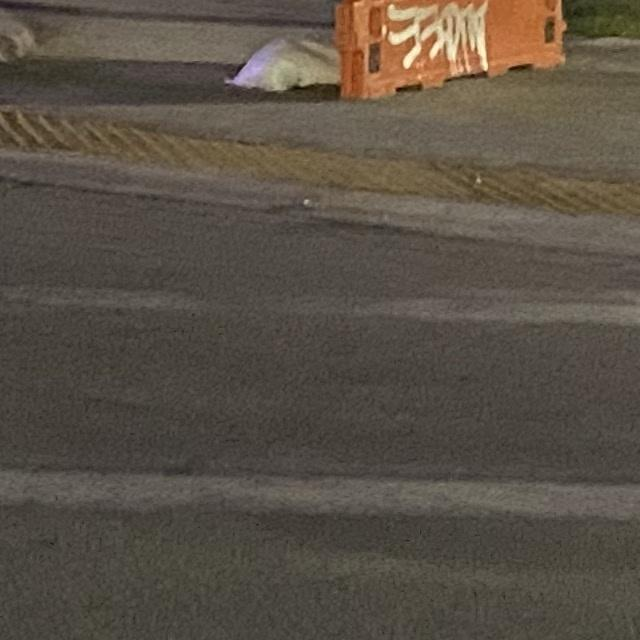curb: (0, 107, 639, 217)
